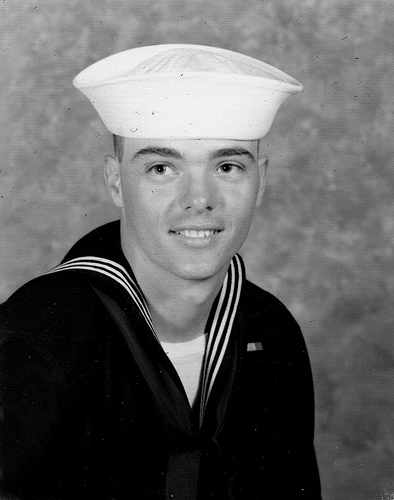without_mask: (87, 71, 289, 289)
